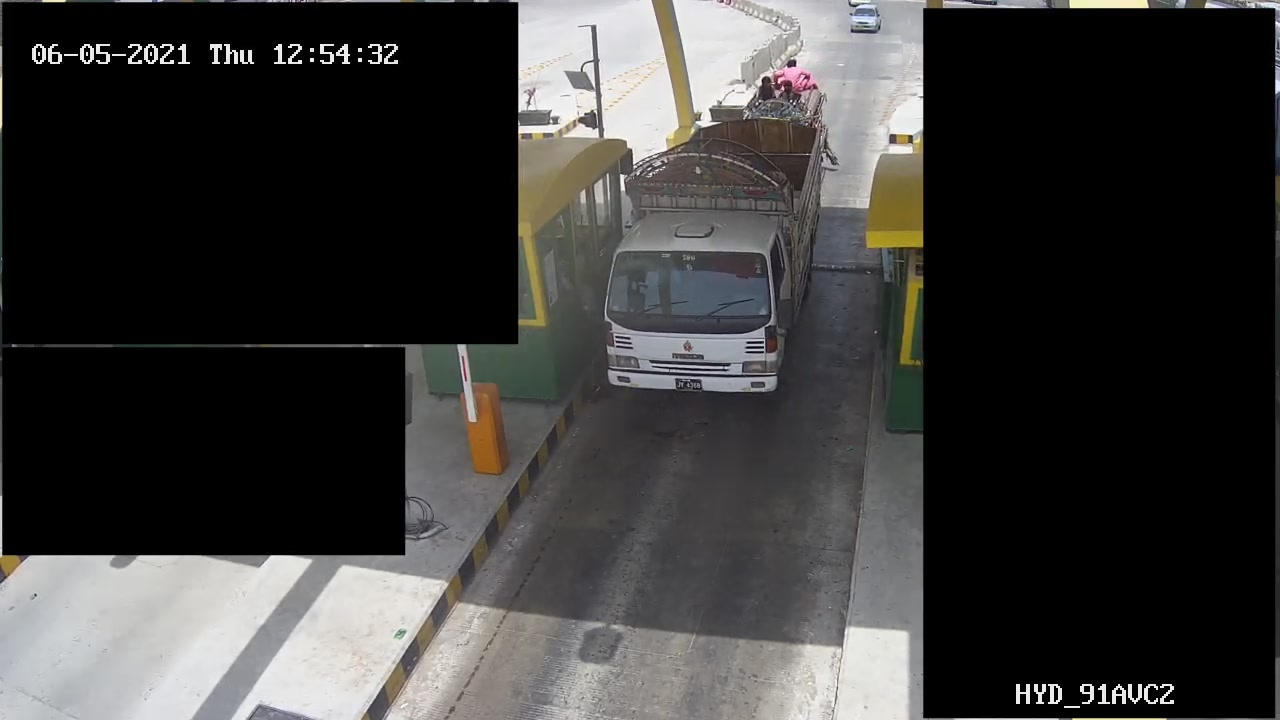F3: (596, 119, 829, 401)
